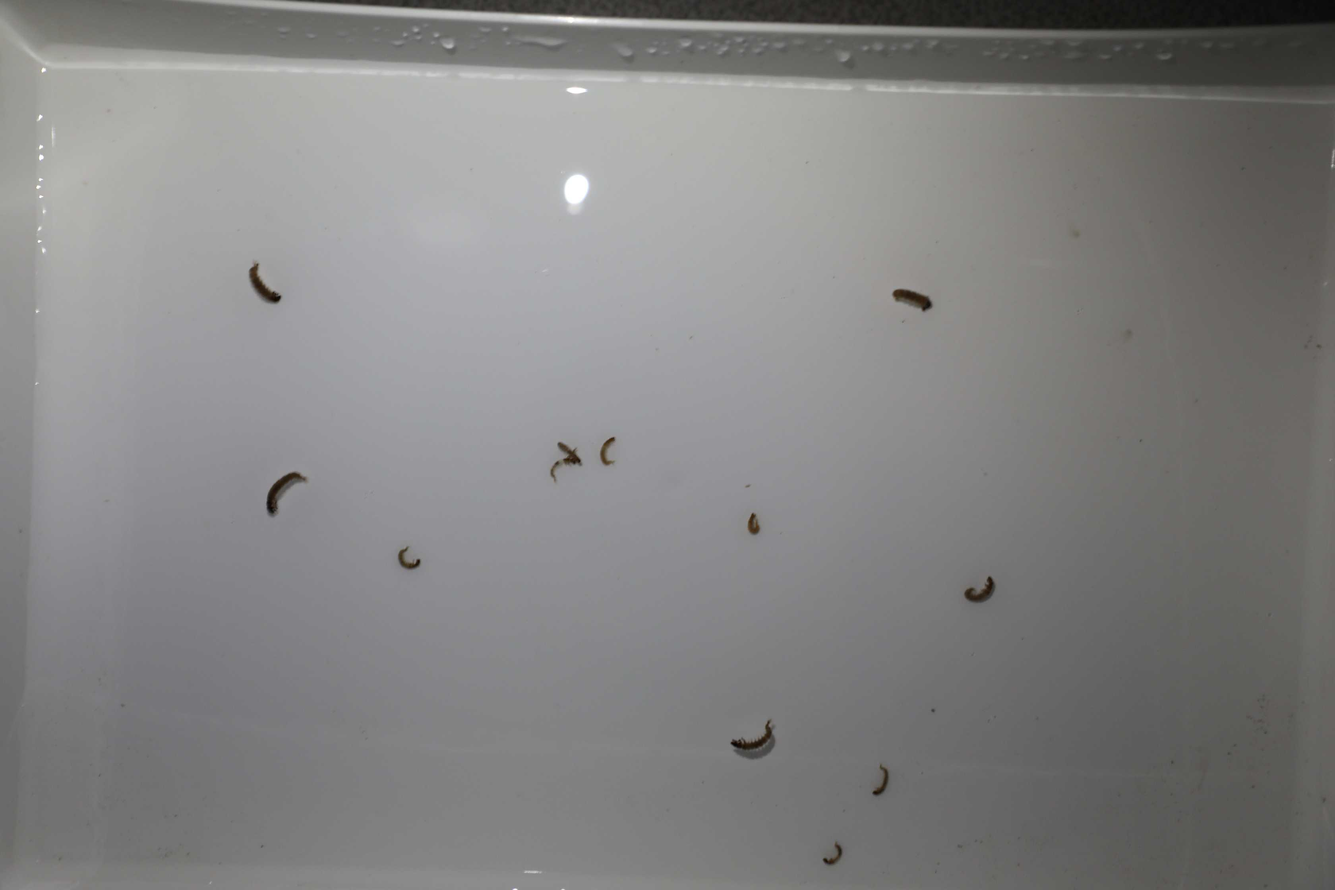Cadisfly: (261, 467, 304, 518), (728, 718, 776, 763), (244, 261, 284, 305), (883, 284, 936, 317), (963, 570, 996, 608), (869, 760, 893, 801), (819, 837, 845, 869), (395, 542, 421, 570), (547, 459, 576, 484), (599, 433, 619, 469), (555, 441, 585, 464), (748, 512, 765, 537)
